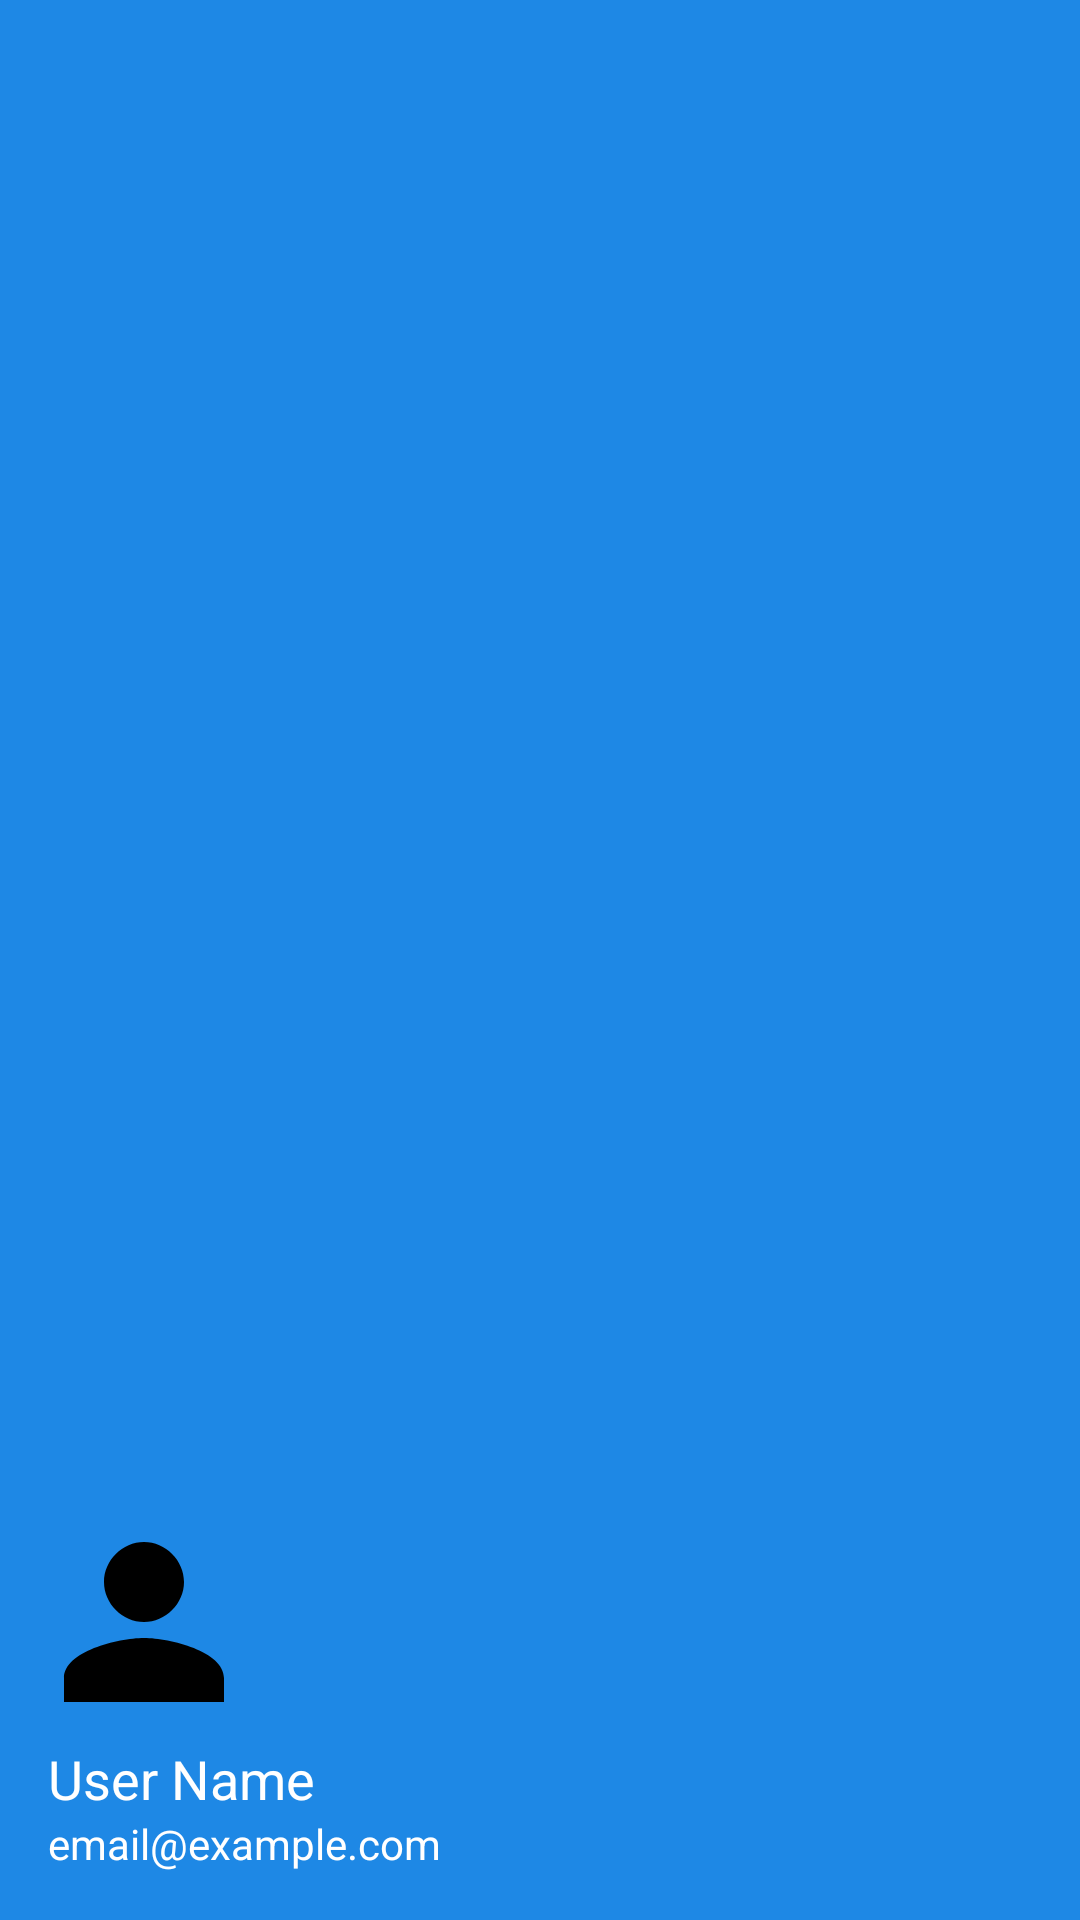

Locate icon controls on the screen. Image size 1080×1920, boxes as (x1, y1, x2, y2).
Profile Image: (64, 1542, 224, 1702)
